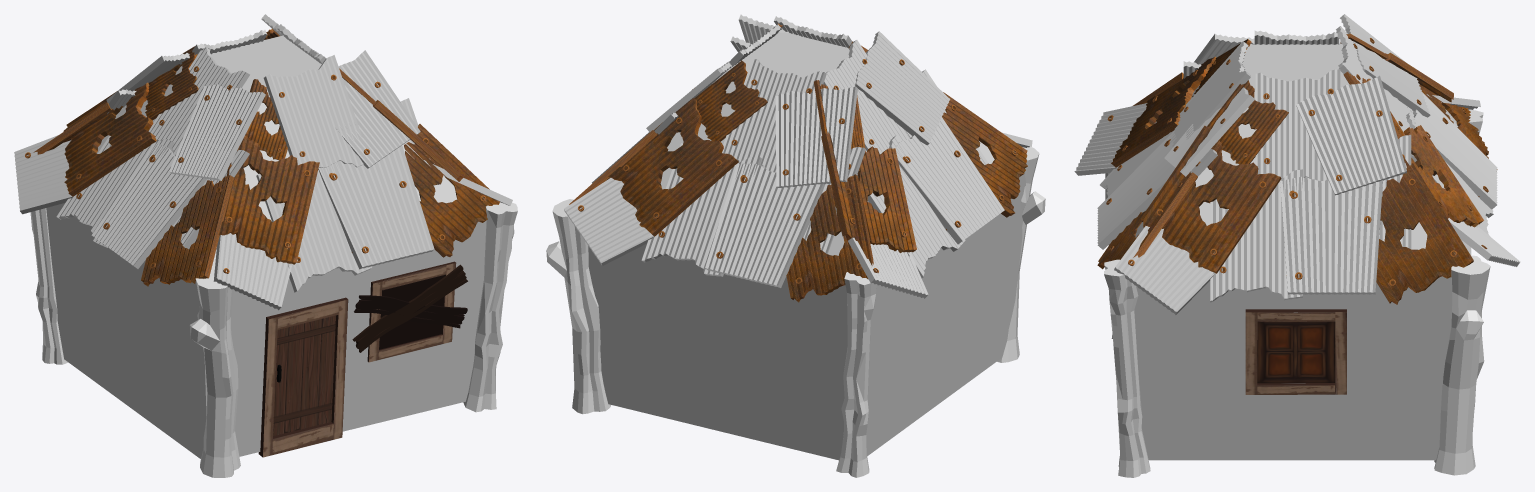
Rendered from Extra House2.fbx.
The picture shows the model from 3 angles, left to right: view 1: azimuth 30°, elevation 25°; view 2: azimuth 150°, elevation 25°; view 3: azimuth 270°, elevation 25°; orthographic projection. The views are drawn at different scales.
Visible parts, largest first — view 1: Cube.002, Cube, Cylinder, windows.001, windows.002, windows.006, windows.009, windows.007, windows.000; view 2: Cube.002, Cube, Cylinder; view 3: Cube.002, Cube, Cylinder, windows.005, windows.001, windows.000.
Boxes of the visible parts, x1,y1,x2,y2 form: Cube.002: (14,14,512,310); Cube: (46,35,486,458); Cylinder: (30,202,517,477); windows.001: (263,263,456,457); windows.002: (273,315,335,435); windows.006: (352,264,467,352); windows.009: (379,275,445,349); windows.007: (354,295,467,328); windows.000: (258,261,455,457); Cube.002: (564,14,1032,302); Cube: (588,32,1025,460); Cylinder: (546,146,1045,477); Cube.002: (1074,14,1520,314); Cube: (1134,43,1471,460); Cylinder: (1097,109,1490,477); windows.005: (1257,321,1335,383); windows.001: (1245,312,1346,394); windows.000: (1245,309,1346,392).
Bounding box in the file's own units: 283 × 243 × 280.
